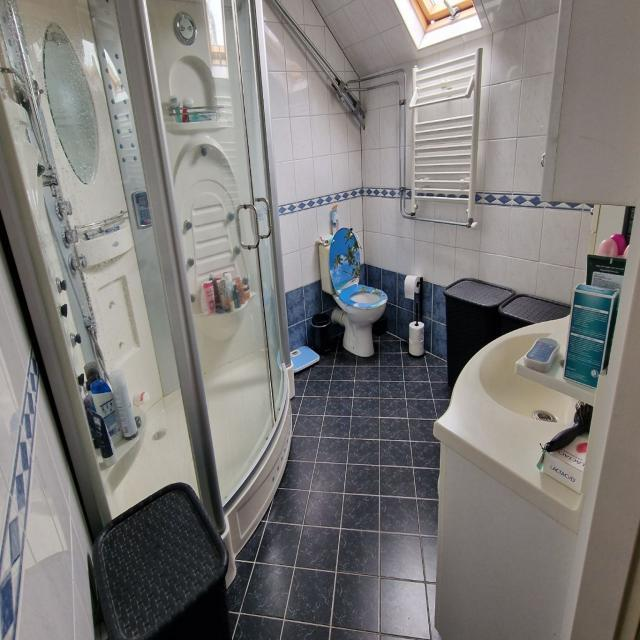designradiator: (399, 48, 482, 232)
douche: (0, 0, 295, 588)
toilet: (318, 228, 388, 358)
wastafel: (436, 311, 585, 509), (435, 440, 580, 640)
